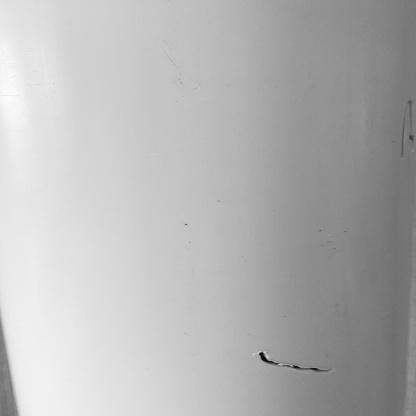fengxi: (250, 340, 339, 378), (400, 93, 413, 163)
